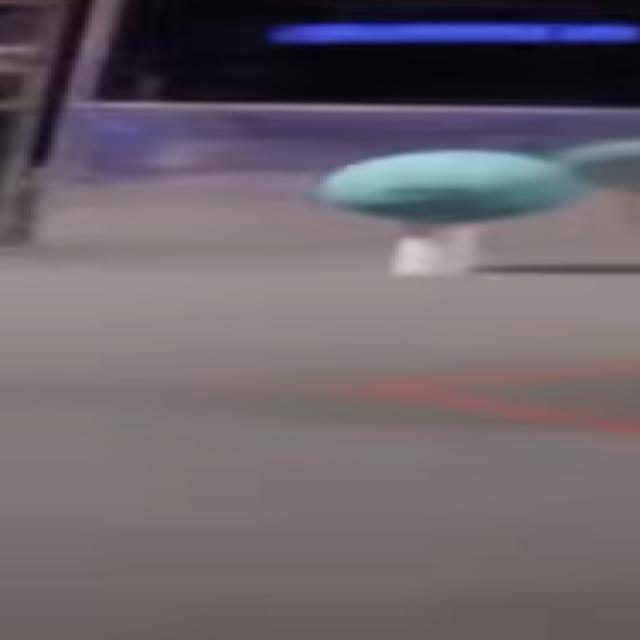Algae: (314, 150, 581, 223)
Coral: (398, 224, 472, 276)
